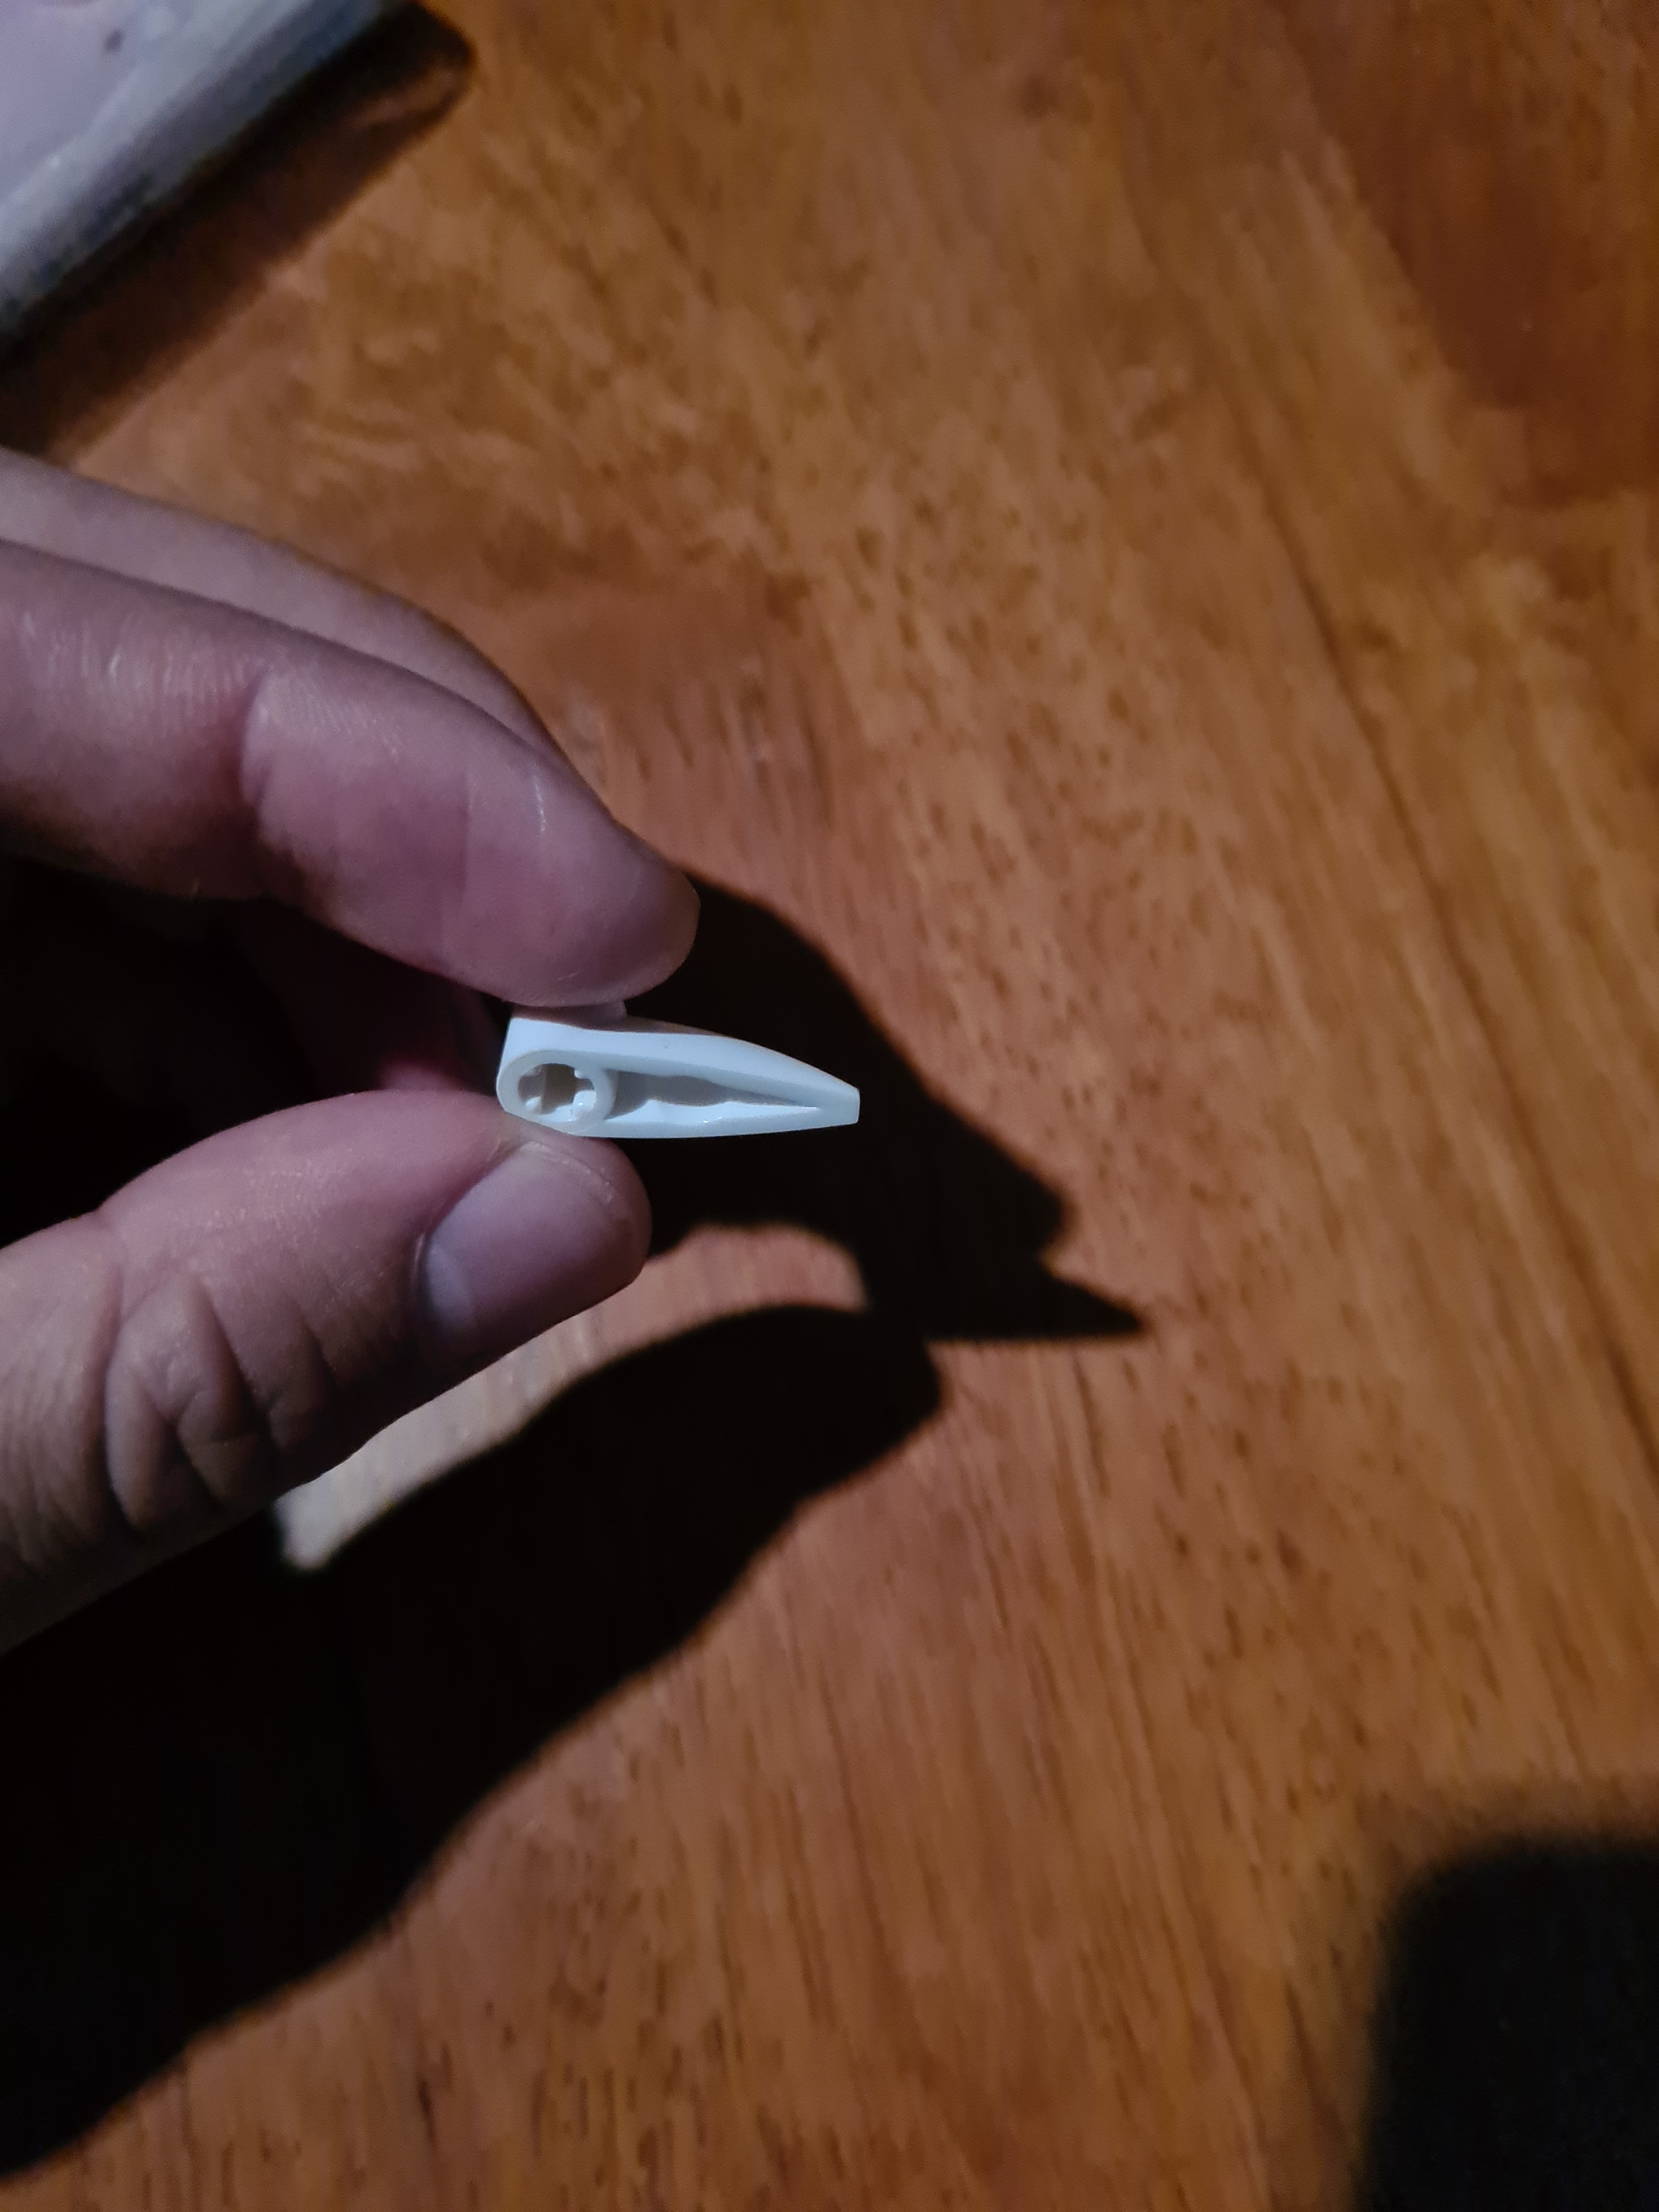Kappe: (474, 948, 897, 1176)
